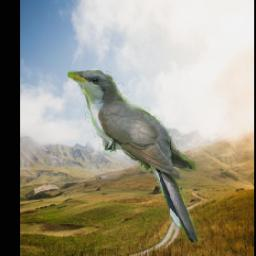Cuckoo: (68, 70, 199, 242)
